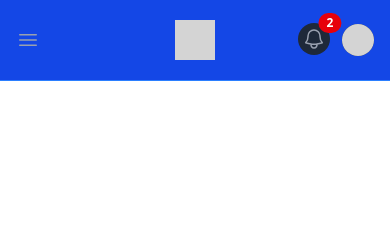
Test: NavBar › Mobile view only › Logged in › should render the add property link in mobile menu when logged in
Click the 1st button named "open main menu" at (28, 40), box [8, 20, 48, 60]
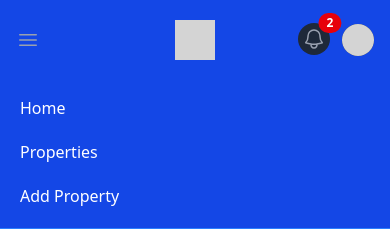
Result: the link "Add Property" is shown at [20, 185, 119, 207]
